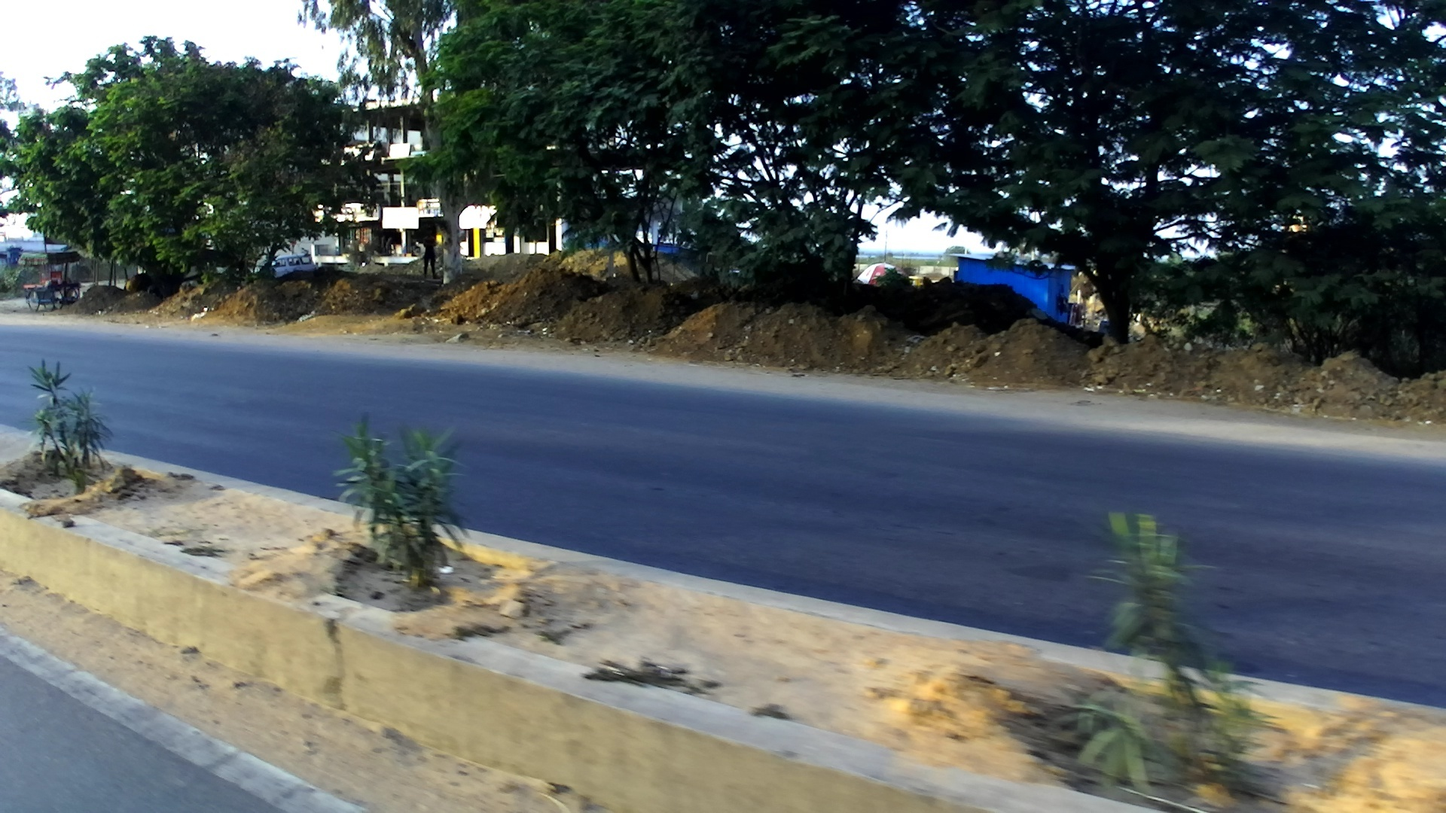person: (416, 221, 447, 281)
vehicle fallback: (20, 249, 89, 311), (260, 251, 314, 289)
